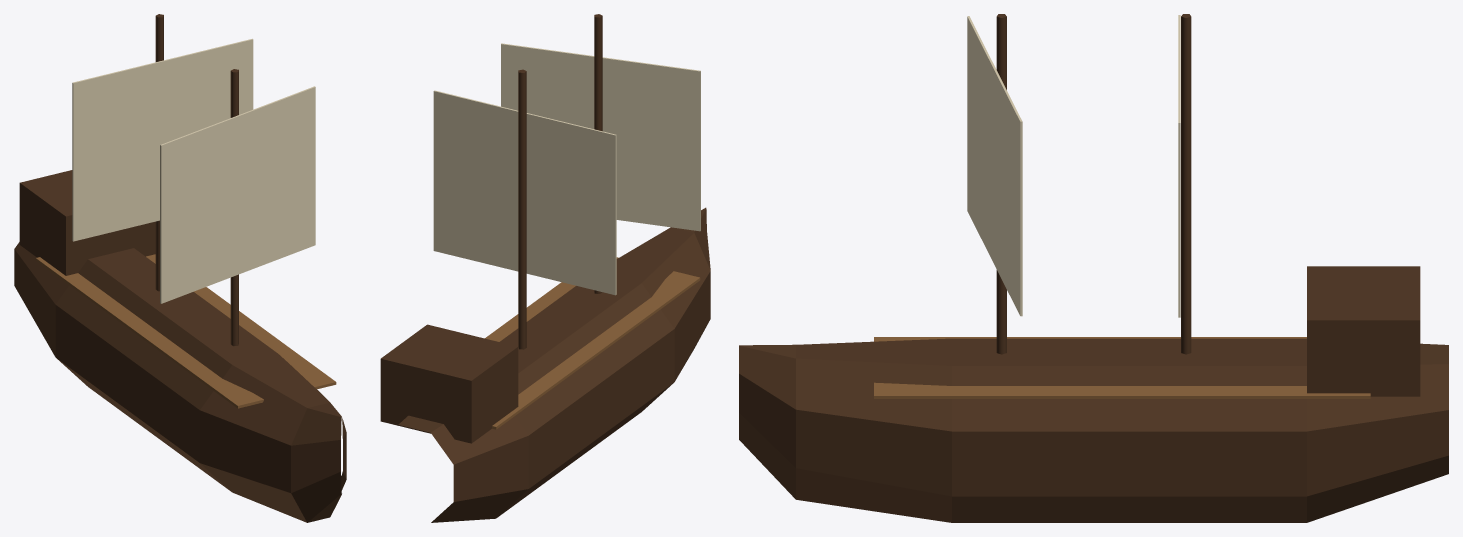
Rendered from veh_naval_merchant_a03.glb.
3 renders of one model, left to right at view 1: azimuth 30°, elevation 25°; view 2: azimuth 150°, elevation 25°; view 3: azimuth 270°, elevation 25°, orthographic. The views are drawn at different scales.
Visible parts, largest first — view 1: body, sail_1, sail_0; view 2: body, sail_0, sail_1; view 3: body, sail_1, sail_0.
Boxes of the visible parts, x1,y1,x2,y2 form: body: [14, 14, 346, 522]; sail_1: [160, 86, 315, 303]; sail_0: [72, 38, 253, 241]; body: [380, 14, 710, 522]; sail_0: [433, 90, 616, 295]; sail_1: [501, 43, 700, 231]; body: [739, 14, 1448, 522]; sail_1: [967, 16, 1022, 316]; sail_0: [1178, 15, 1180, 317].
Size of what is drawn, in the model's own units: 5.62 by 11.97 by 15.6.
